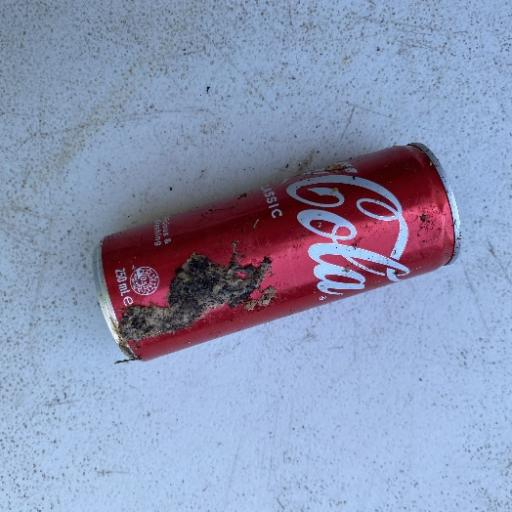Metal: (91, 140, 461, 364)
